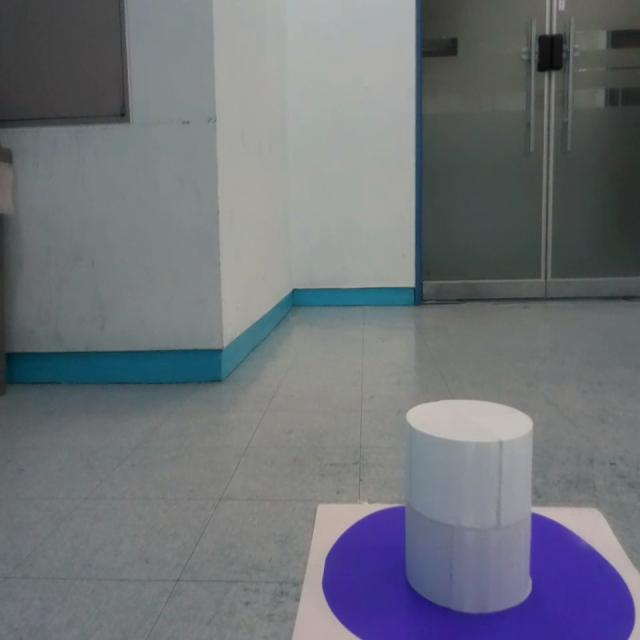cylinder: (404, 398, 534, 614)
